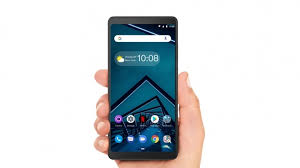lenovo: (104, 13, 181, 163)
